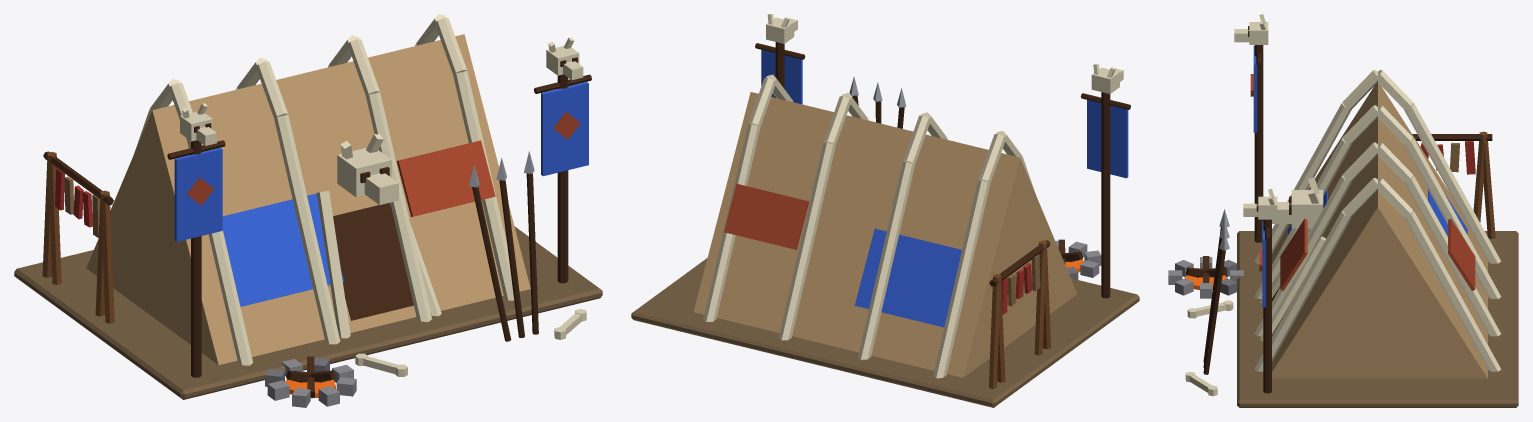
The model's file is Den.glb.
3 views of the same model, side by side, from view 1: azimuth 30°, elevation 25°; view 2: azimuth 150°, elevation 25°; view 3: azimuth 270°, elevation 25° (orthographic). The views are drawn at different scales.
Visible parts, largest first — view 1: Den; view 2: Den; view 3: Den.
Boxes of the visible parts, box(x1,y1,x2,y2) form: Den: box(14, 14, 602, 407); Den: box(631, 14, 1139, 407); Den: box(1168, 14, 1518, 407).
Bounding box in the file's own units: 3.9 × 2.43 × 3.34.
